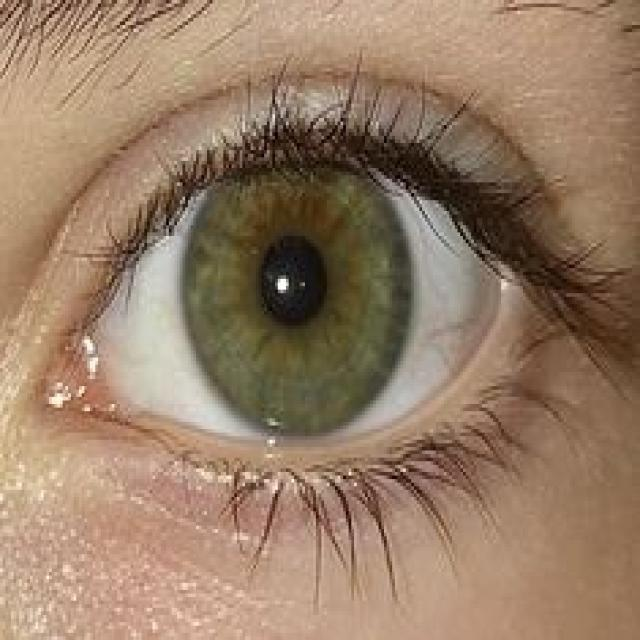Normal: (8, 16, 639, 638)
